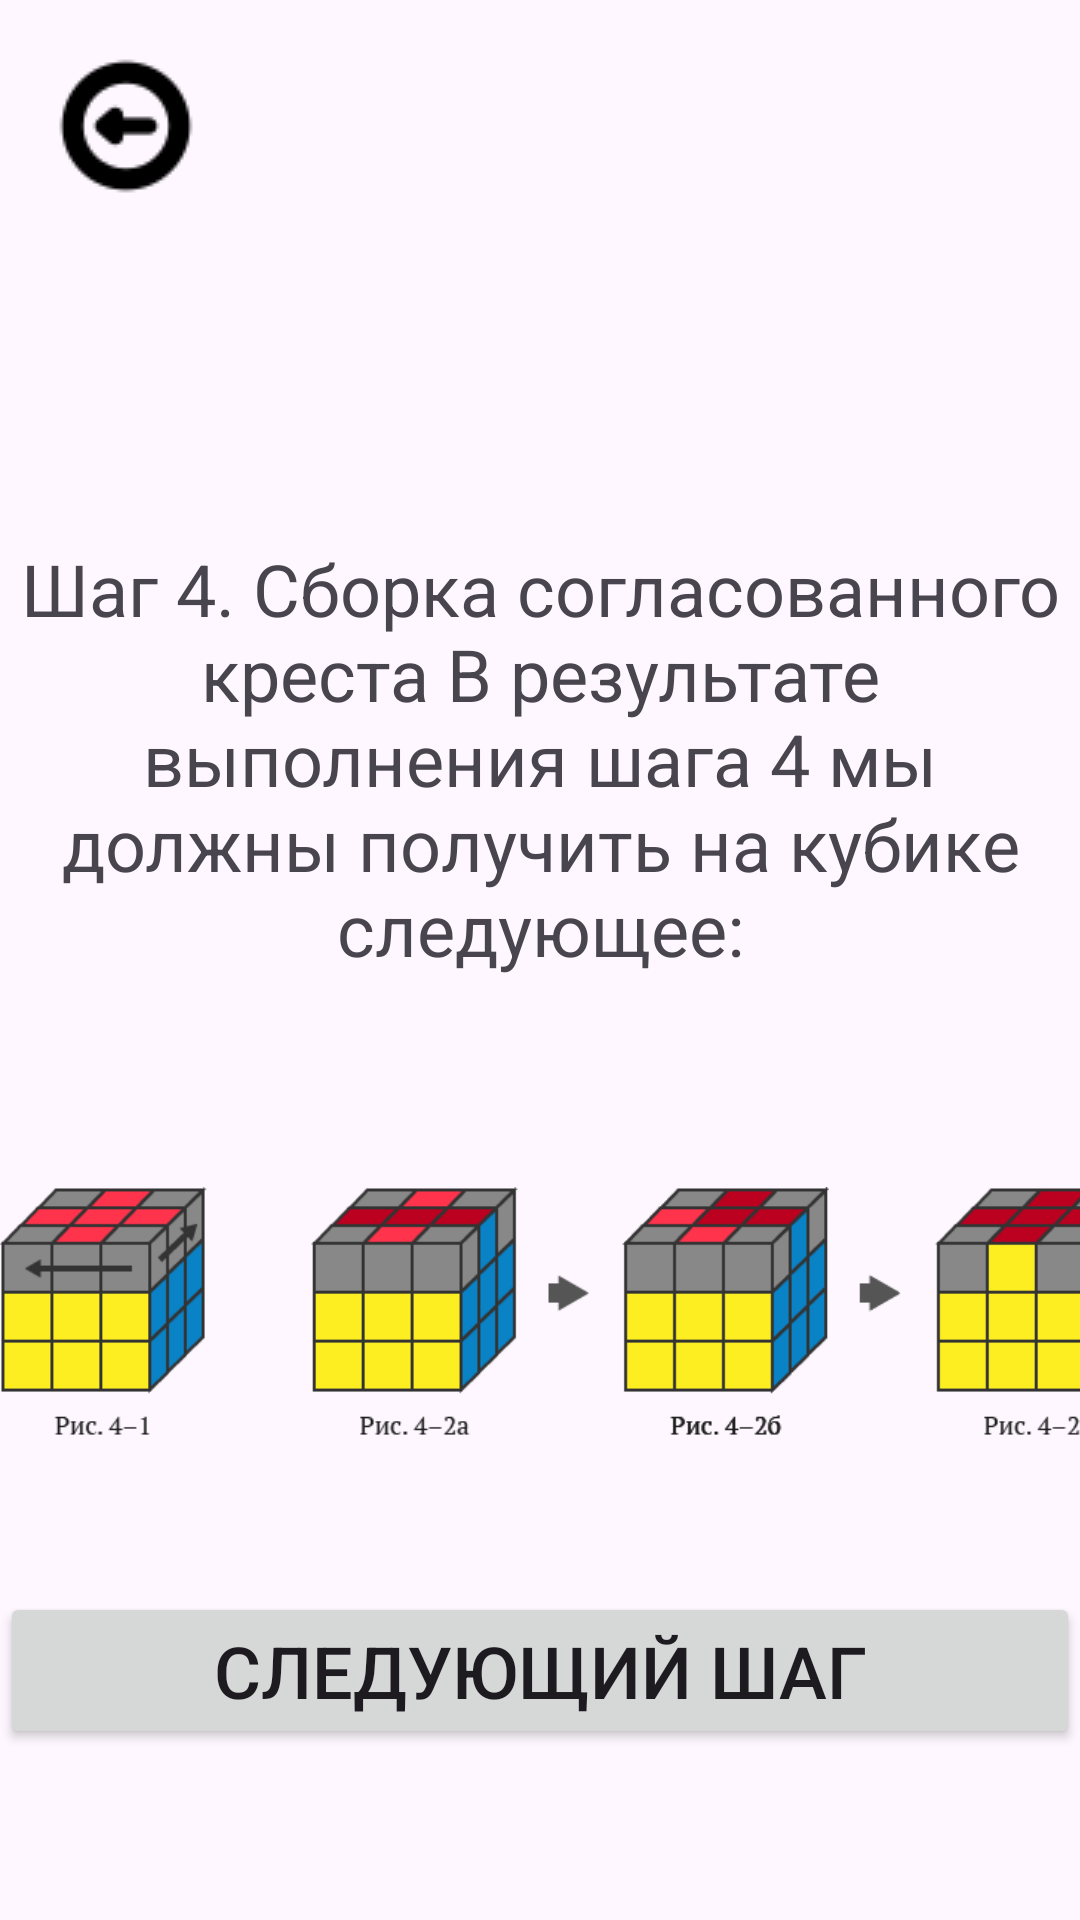

Icon bounding boxes for this 1080px×1920px phone screenshot, format rect(x1, y1, x2, y2):
back: rect(59, 59, 193, 193)
